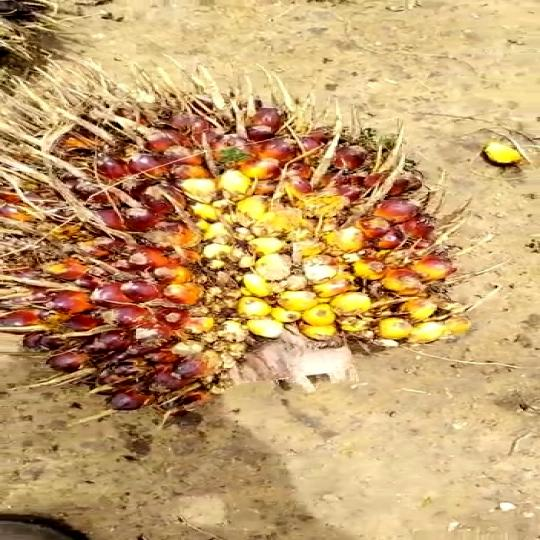masak: (4, 90, 473, 427)
